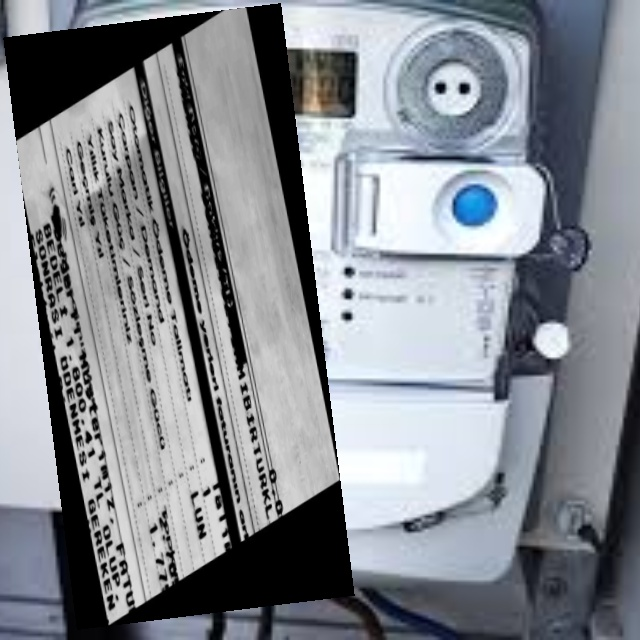electricity-bill: (2, 2, 354, 630)
